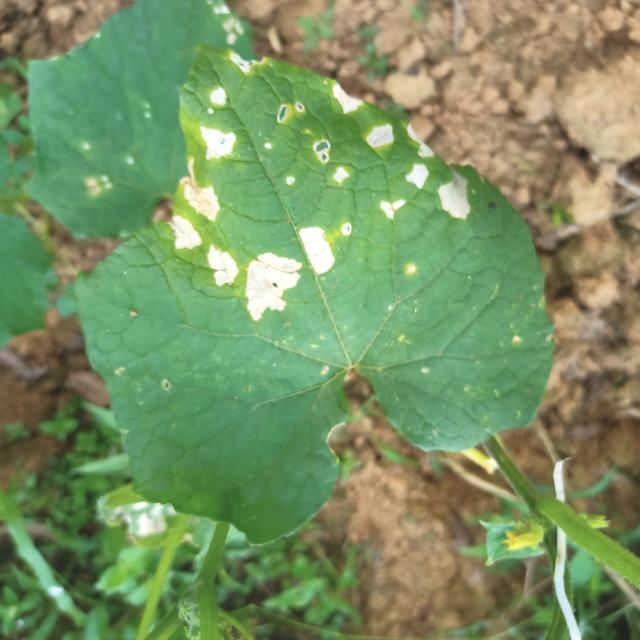disease_cucumber: (245, 226, 336, 323), (380, 163, 470, 223), (172, 181, 220, 249), (201, 83, 237, 161), (367, 124, 433, 160), (313, 137, 350, 185), (210, 245, 237, 285), (331, 82, 361, 116)
